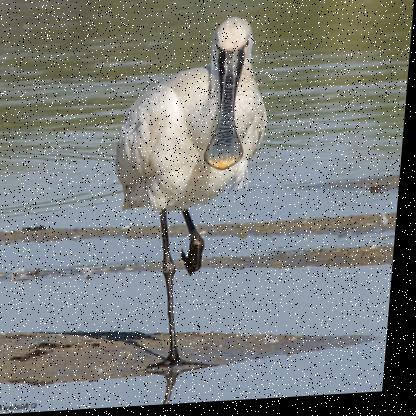Burung: (103, 17, 279, 370)
